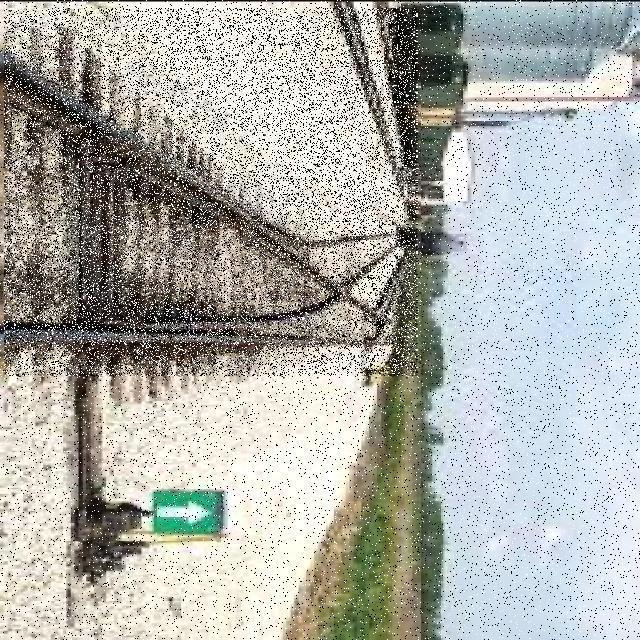rail: (5, 10, 418, 377)
